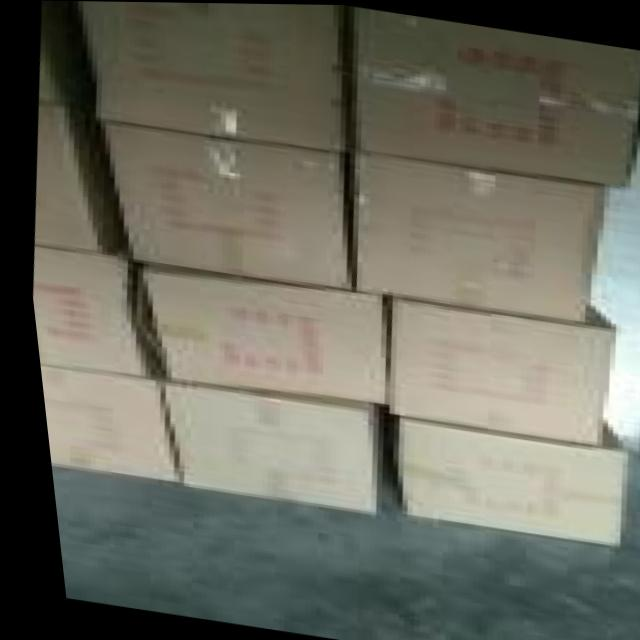box: (349, 6, 640, 188), (349, 151, 602, 322), (100, 122, 344, 290), (80, 1, 344, 152), (131, 263, 377, 404), (379, 296, 608, 445), (389, 416, 619, 544), (154, 380, 365, 515), (28, 245, 153, 377), (32, 366, 167, 483), (29, 103, 97, 252)
